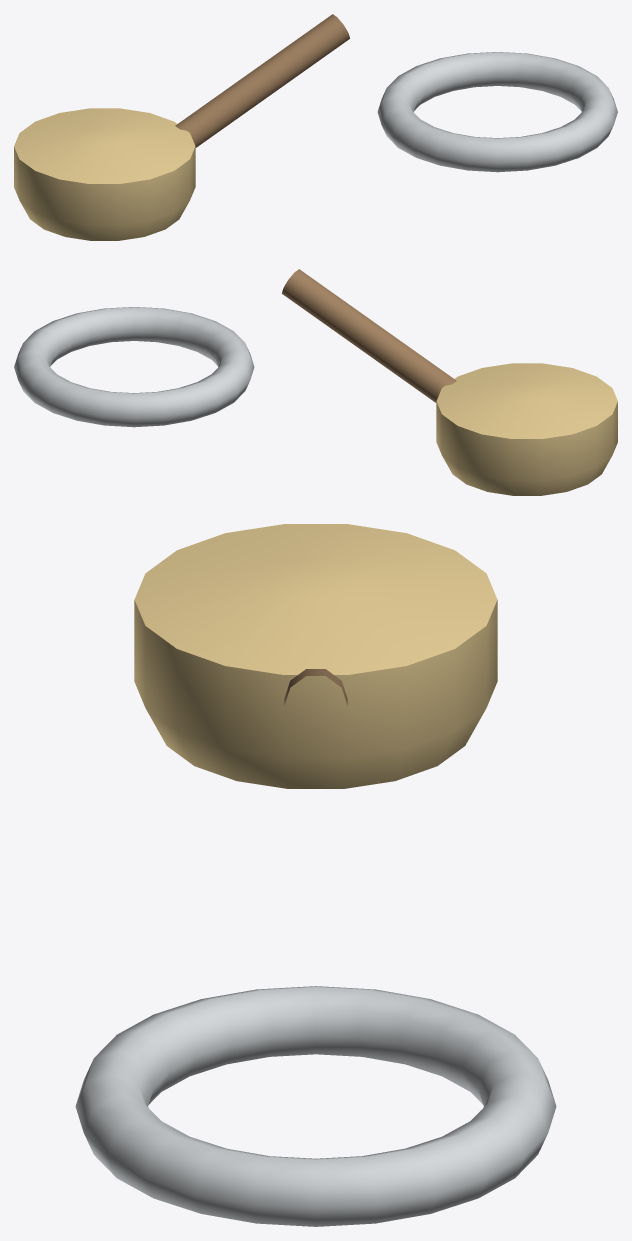
Rendered from marquetry-and-veneer-inlay-workshop-shading-scoop-and--84dd638b__39114.glb.
3 renders of one model, top to bottom at view 1: azimuth 30°, elevation 25°; view 2: azimuth 150°, elevation 25°; view 3: azimuth 270°, elevation 25°, orthographic. The views are drawn at different scales.
Visible parts, largest first — view 1: shading-scoop-and-rest; view 2: shading-scoop-and-rest; view 3: shading-scoop-and-rest.
Boxes of the visible parts, left/top/right/bottom form: shading-scoop-and-rest: left=14, top=14, right=617, bottom=240; shading-scoop-and-rest: left=14, top=269, right=617, bottom=495; shading-scoop-and-rest: left=75, top=524, right=556, bottom=1226.
Bounding box in the file's own units: 0.2924 × 0.0741 × 0.106.
